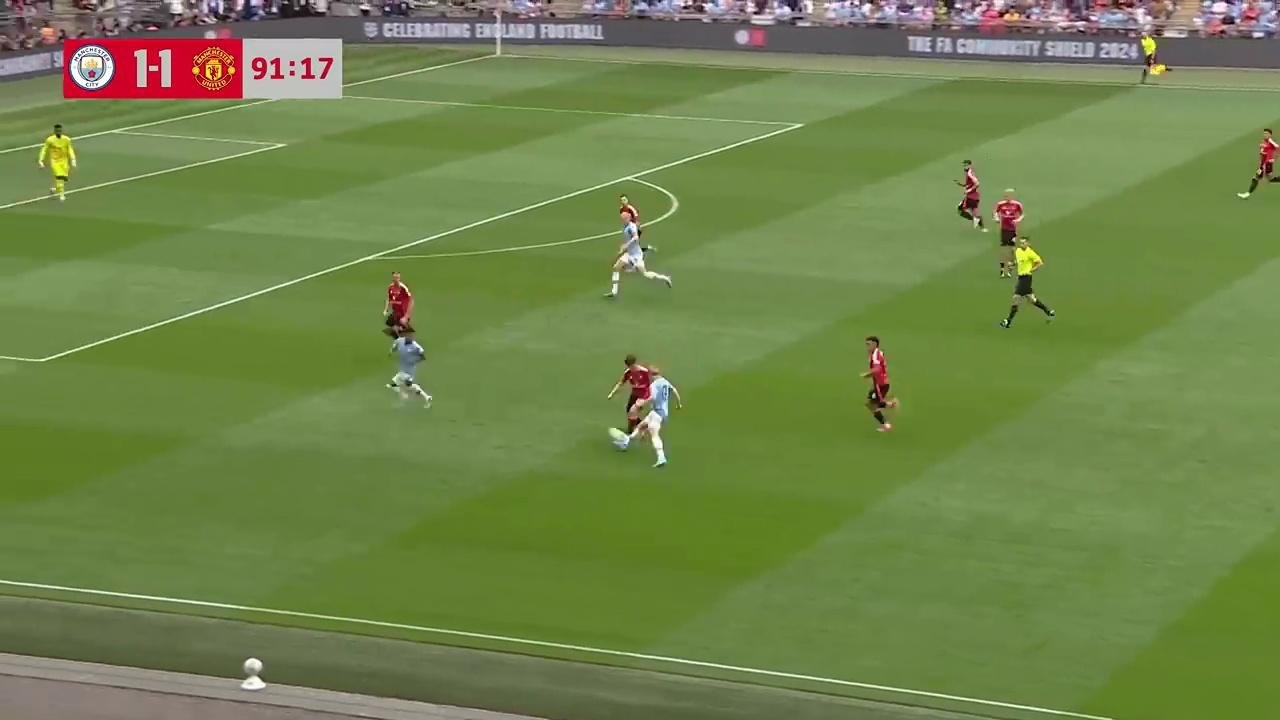ball: (606, 424, 632, 451)
player: (633, 364, 677, 471), (605, 223, 664, 298), (385, 327, 432, 410), (606, 354, 648, 441), (860, 335, 898, 431), (605, 223, 647, 299), (38, 123, 76, 203), (1239, 127, 1279, 199), (994, 189, 1024, 274), (382, 270, 414, 345), (955, 160, 985, 231), (617, 194, 642, 242)
referee: (1000, 234, 1054, 328), (1138, 30, 1165, 86)
